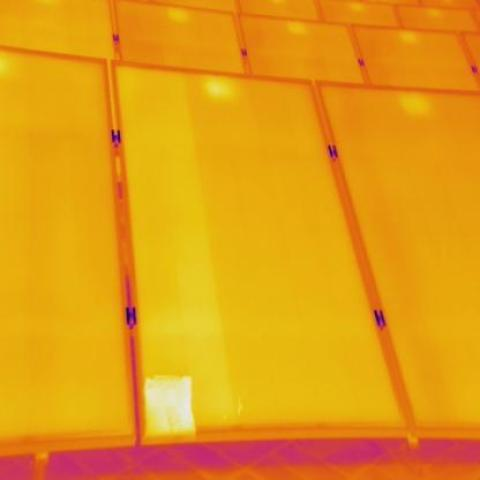fault: (144, 380, 189, 433), (402, 92, 426, 116), (206, 75, 231, 97)
